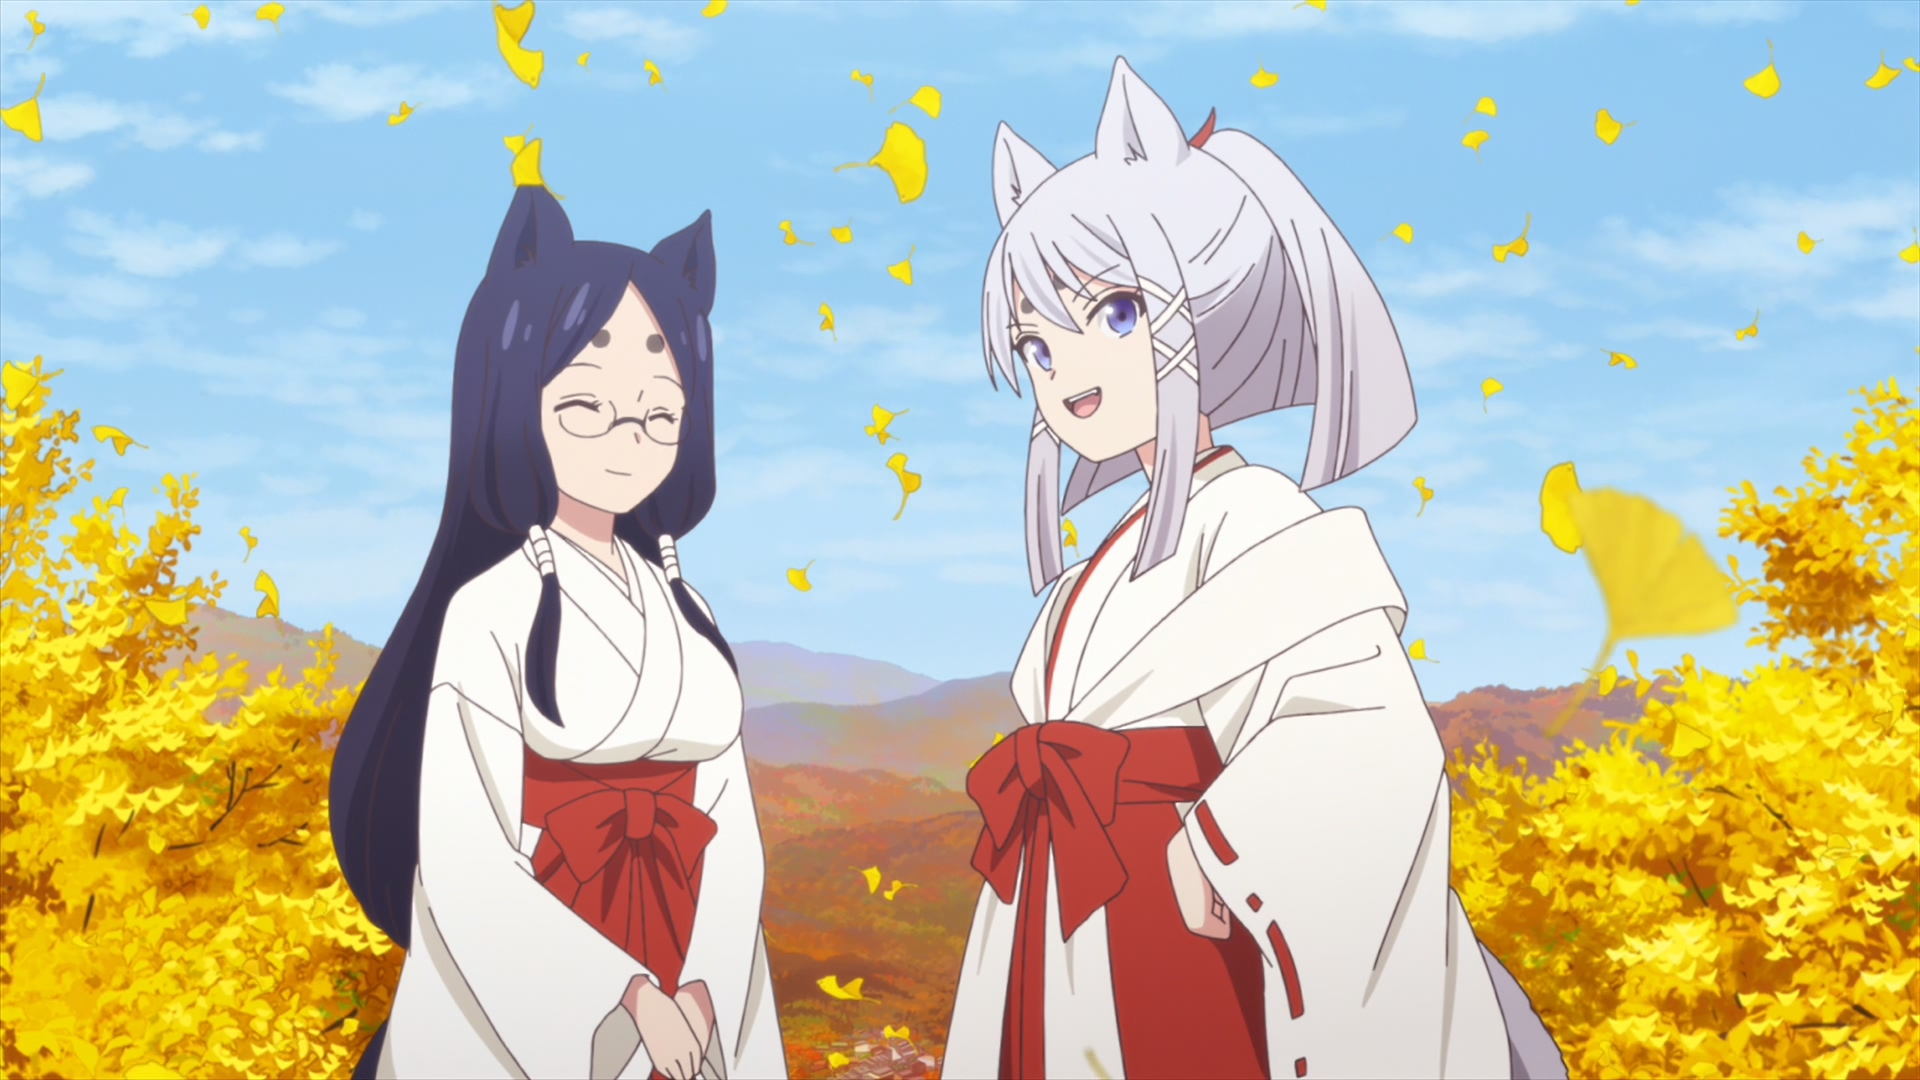柊: (942, 57, 1568, 1080)
菖: (331, 186, 786, 1080)
